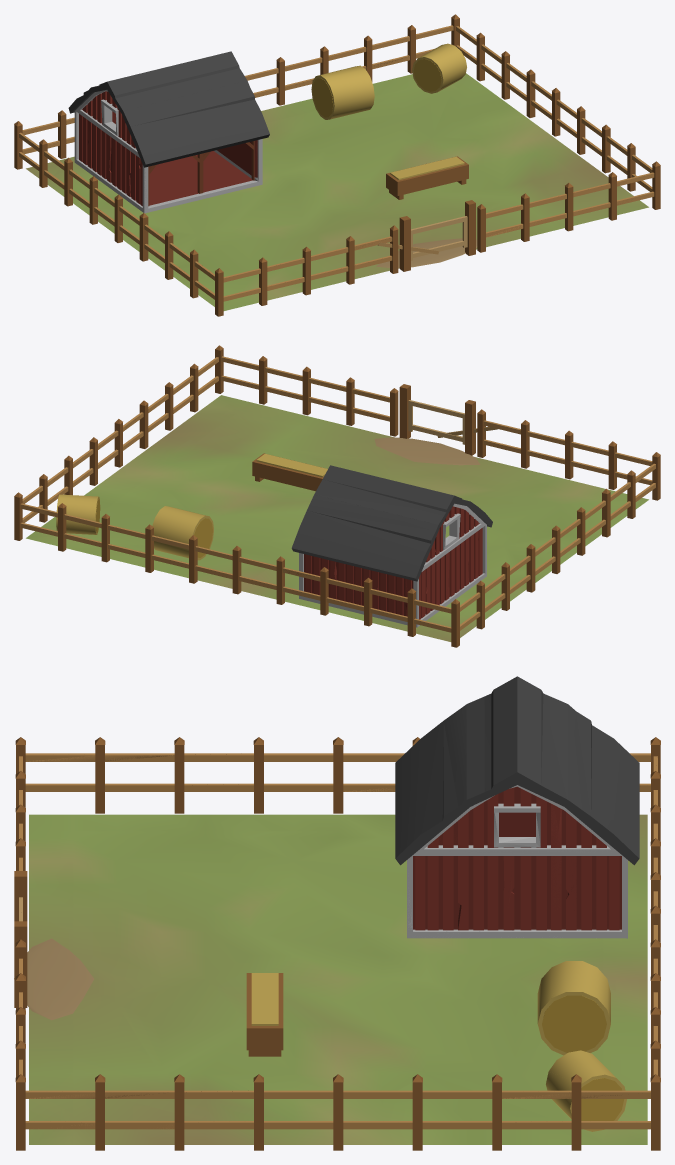
Rendered from cow_barn-g1.glb.
The picture shows the model from 3 angles, top to bottom: view 1: azimuth 30°, elevation 25°; view 2: azimuth 150°, elevation 25°; view 3: azimuth 270°, elevation 25°; orthographic projection. The views are drawn at different scales.
Visible parts, largest first — view 1: home-cow_barn-g1, home-cow_barn-g1-far; view 2: home-cow_barn-g1, home-cow_barn-g1-far; view 3: home-cow_barn-g1, home-cow_barn-g1-far.
Boxes of the visible parts, x1,y1,x2,y2 form: home-cow_barn-g1: (14, 14, 660, 316); home-cow_barn-g1-far: (14, 18, 660, 316); home-cow_barn-g1: (14, 345, 660, 647); home-cow_barn-g1-far: (14, 349, 660, 647); home-cow_barn-g1: (14, 676, 660, 1150); home-cow_barn-g1-far: (14, 693, 660, 1150).
Size of the model in its own units: 9.93 by 2.3 by 7.95.
